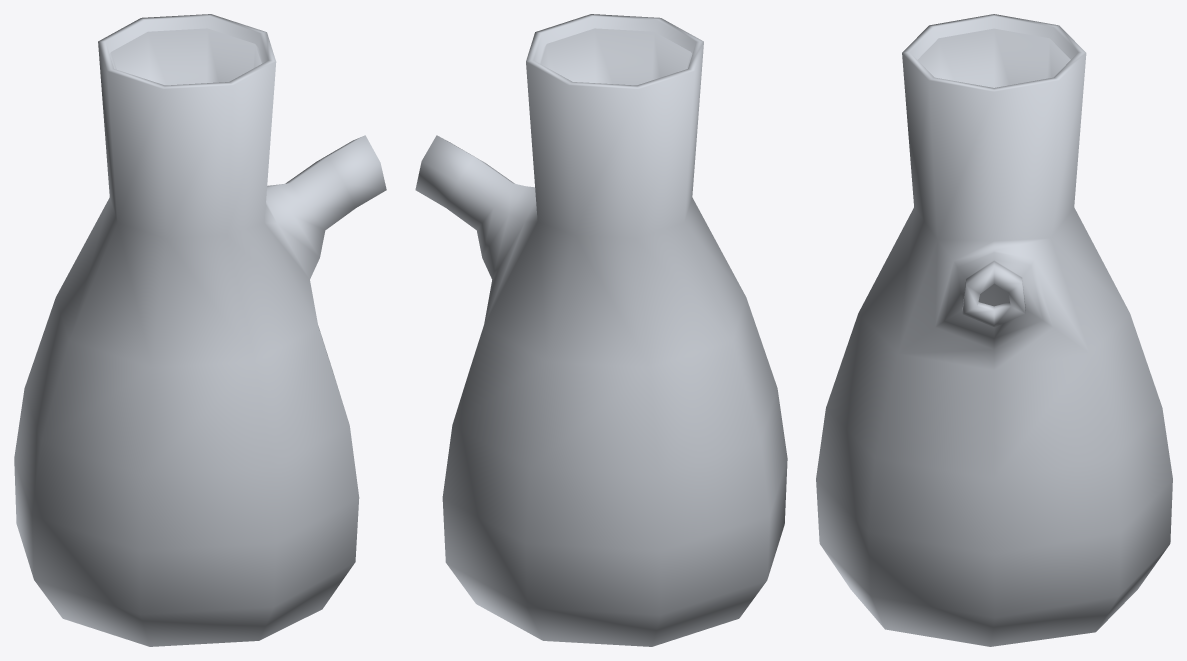
Rendered from bottle_glassware_buchner_flask_small.glb.
3 views of the same model, side by side, from view 1: azimuth 30°, elevation 25°; view 2: azimuth 150°, elevation 25°; view 3: azimuth 270°, elevation 25° (orthographic).
Visible parts, largest first — view 1: bottle_glassware_buchner_flask_small; view 2: bottle_glassware_buchner_flask_small; view 3: bottle_glassware_buchner_flask_small.
Part boxes in pixels (bbox=[...]): bottle_glassware_buchner_flask_small: bbox=[14, 14, 386, 646]; bottle_glassware_buchner_flask_small: bbox=[415, 14, 787, 646]; bottle_glassware_buchner_flask_small: bbox=[816, 14, 1172, 646].
Size of the model in its own units: 9.37 by 14.4 by 8.52.
Materials: 1 (1 with a texture image).
